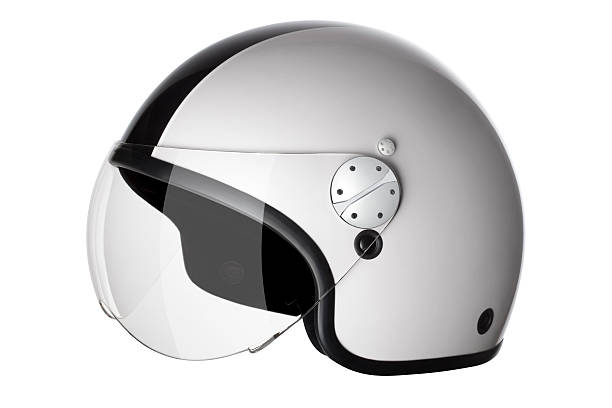with_helmet: (82, 19, 529, 379)
